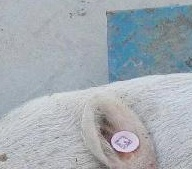text: (107, 123, 149, 160)
